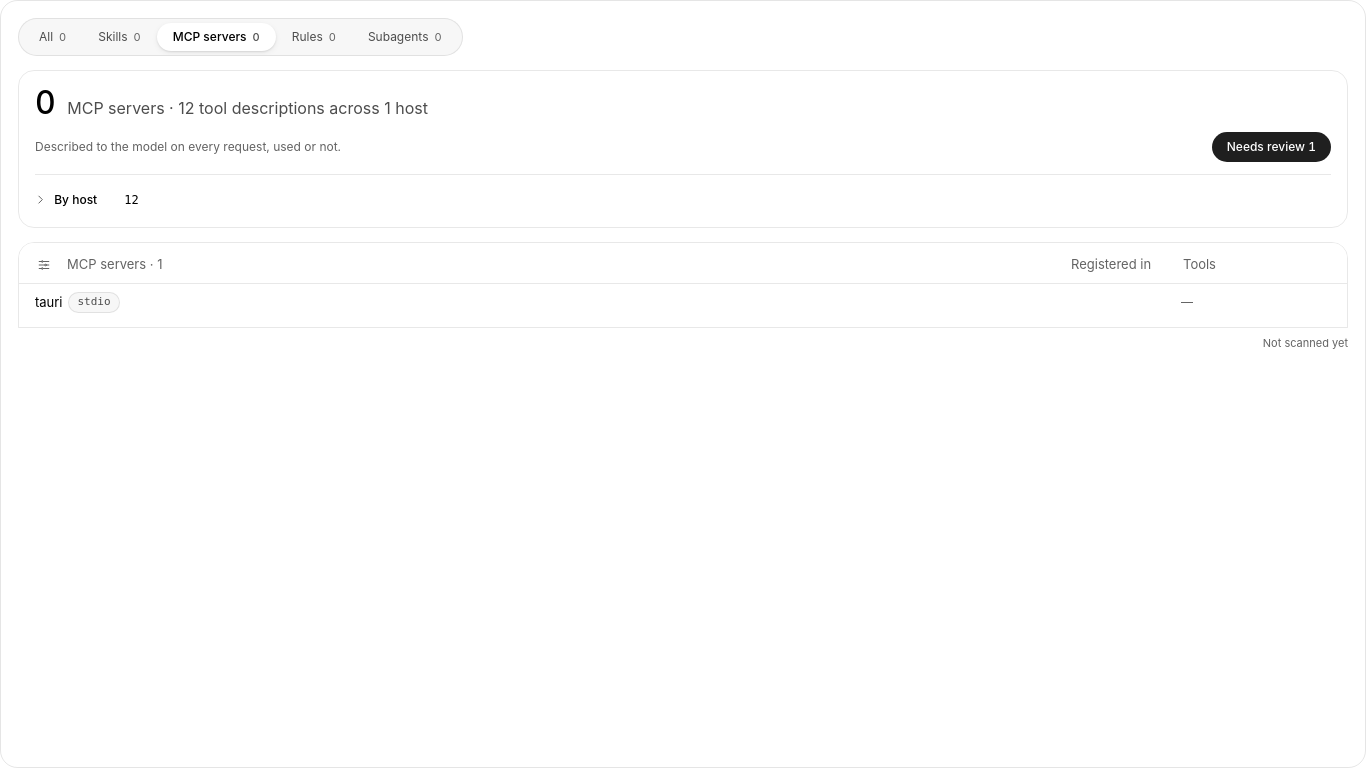
servers running with no config behind them › undeclared processes are the pill's lines: pid, command and spawning host, no route
Click the text "Needs review 1".
click(1271, 147)  # box x1=1227 y1=138 x2=1316 y2=156
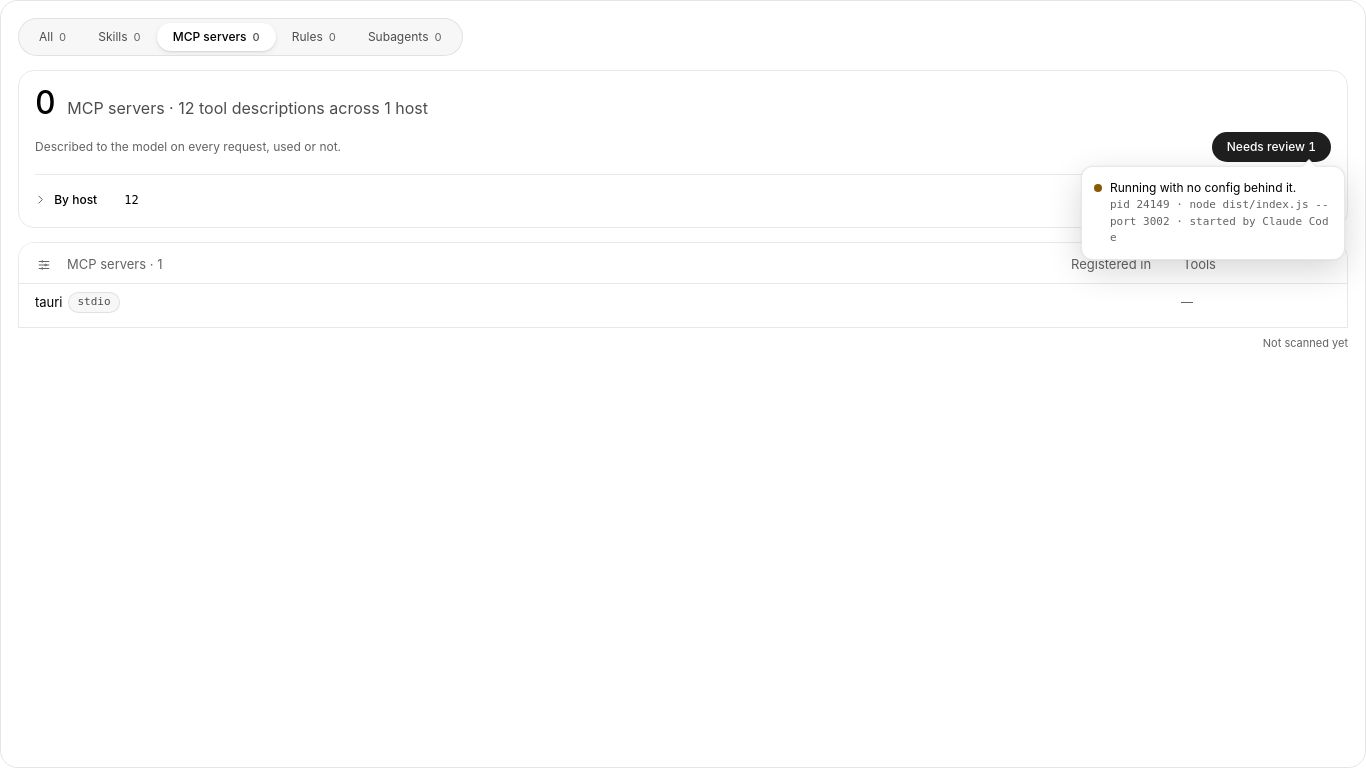
Now the list item with test id "finding-popover-line" shows "Running with no config behind it.", box x1=1110 y1=180 x2=1296 y2=195
Now the list item with test id "finding-popover-line" shows "pid 24149 · node dist/index.js --port 3002 · started by Claude Code", box x1=1110 y1=198 x2=1328 y2=244
